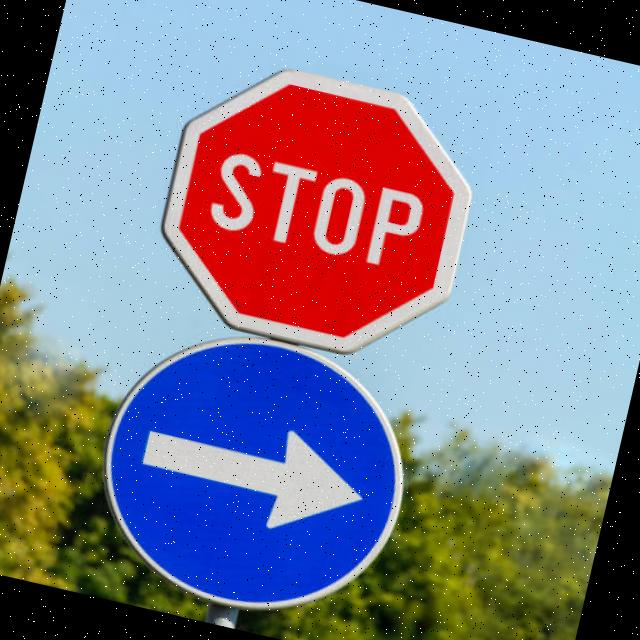compulsory_keep_right: (64, 303, 446, 640)
